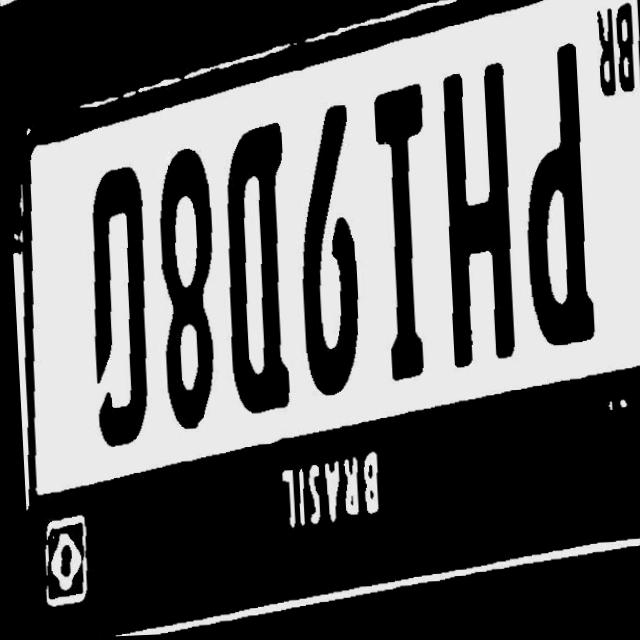0: (66, 150, 152, 458)
8: (144, 125, 217, 438)
9: (279, 101, 368, 413)
d: (207, 108, 296, 423)
h: (427, 60, 520, 383)
i: (359, 82, 440, 398)
p: (515, 46, 594, 368)
